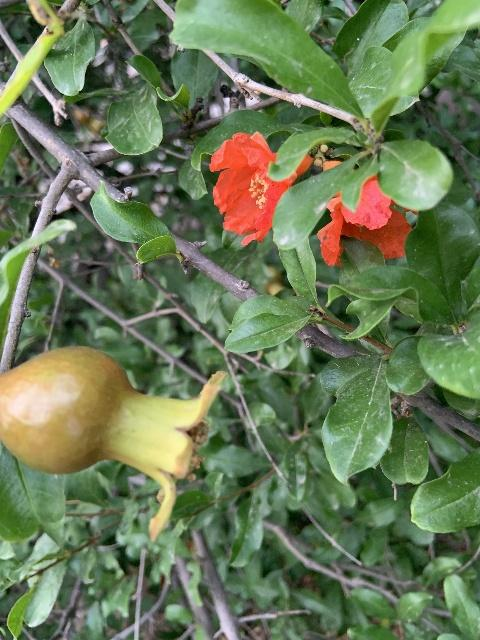early-fruit: (1, 346, 225, 543)
flower: (210, 130, 313, 244), (316, 158, 416, 266)
